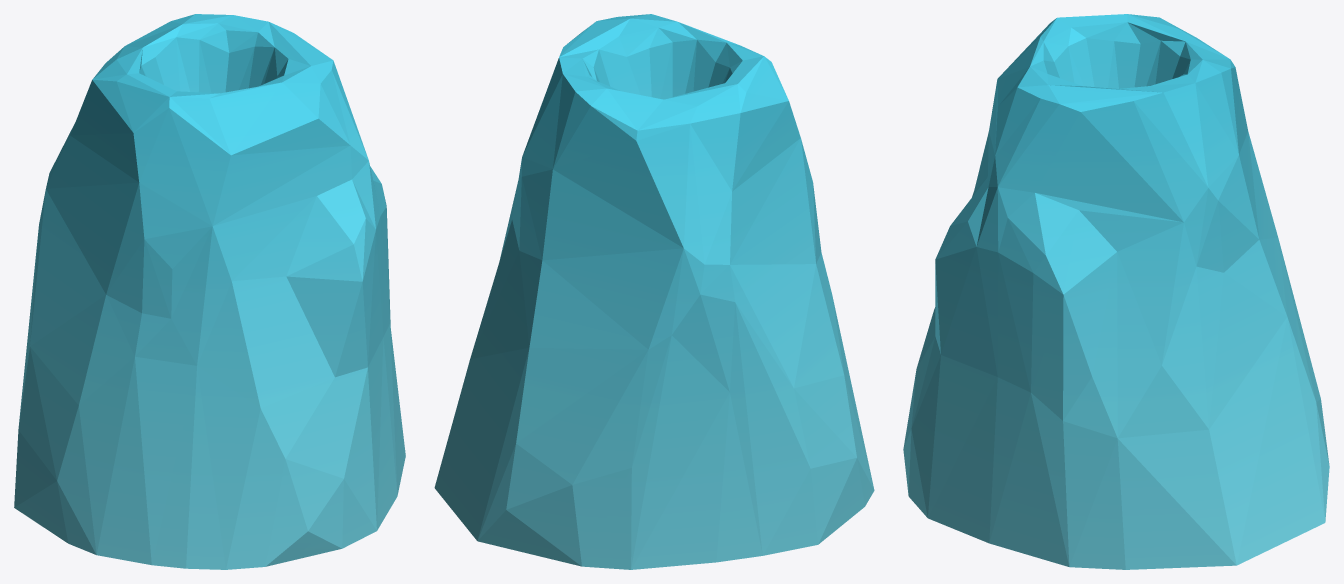
Rendered from obstacle_14_001.fbx.
3 renders of one model, left to right at view 1: azimuth 30°, elevation 25°; view 2: azimuth 150°, elevation 25°; view 3: azimuth 270°, elevation 25°, orthographic.
Parts seen in each view (by area): view 1: obstacle_14_001; view 2: obstacle_14_001; view 3: obstacle_14_001.
Boxes of the visible parts, x1,y1,x2,y2 form: obstacle_14_001: [14, 14, 405, 569]; obstacle_14_001: [434, 14, 874, 569]; obstacle_14_001: [903, 14, 1329, 569].
Size of the model in its own units: 338 by 348 by 388.
